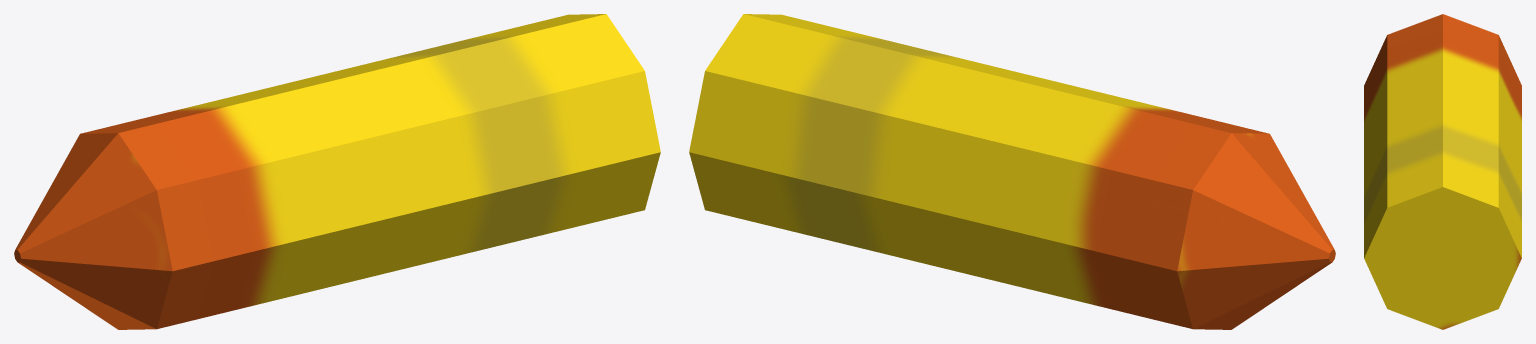
File: bullet.fbx
The picture shows the model from 3 angles, left to right: view 1: azimuth 30°, elevation 25°; view 2: azimuth 150°, elevation 25°; view 3: azimuth 270°, elevation 25°; orthographic projection. The views are drawn at different scales.
Visible parts, largest first — view 1: Cylinder; view 2: Cylinder; view 3: Cylinder.
Part boxes in pixels (box(x1,y1,x2,y2)): Cylinder: box(14, 14, 660, 329); Cylinder: box(689, 14, 1335, 329); Cylinder: box(1364, 14, 1521, 329).
Size of the model in its own units: 125 by 40 by 40.
Materials: 1 (1 with a texture image).
